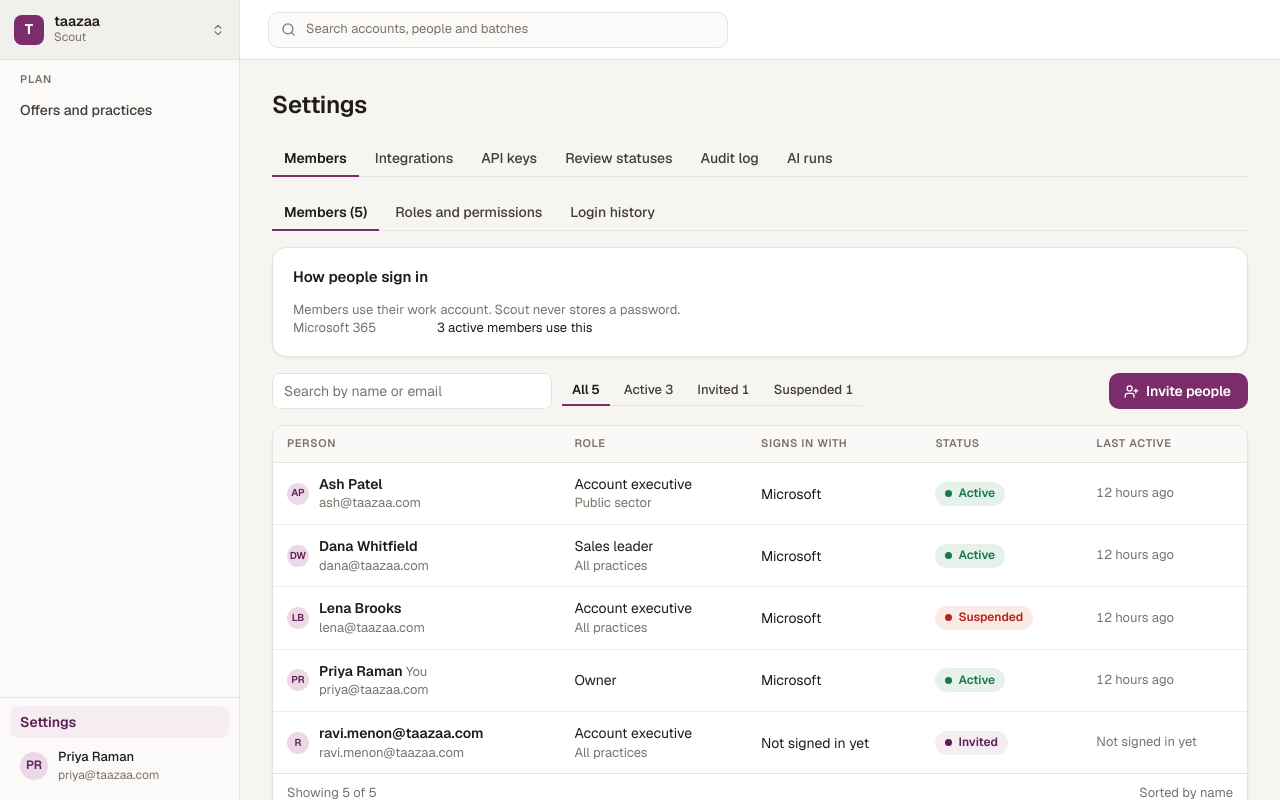
Test: member drawer › changes the role and says when it applies
The image size is (1280, 800).
Click the button "Dana Whitfield": (368,546) x1=319 y1=536 x2=418 y2=557
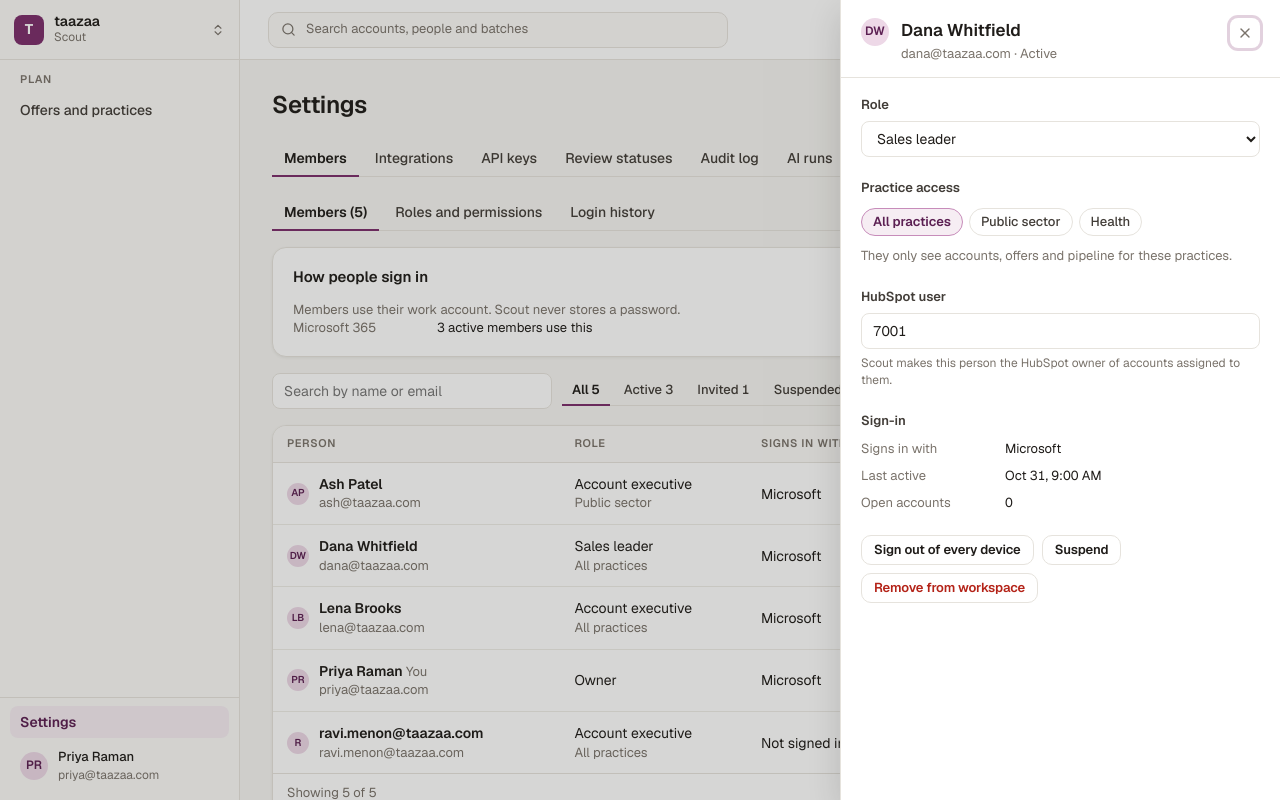
Select "Operator" in the dropdown labelled "Role": (1060,139) x1=861 y1=121 x2=1260 y2=157
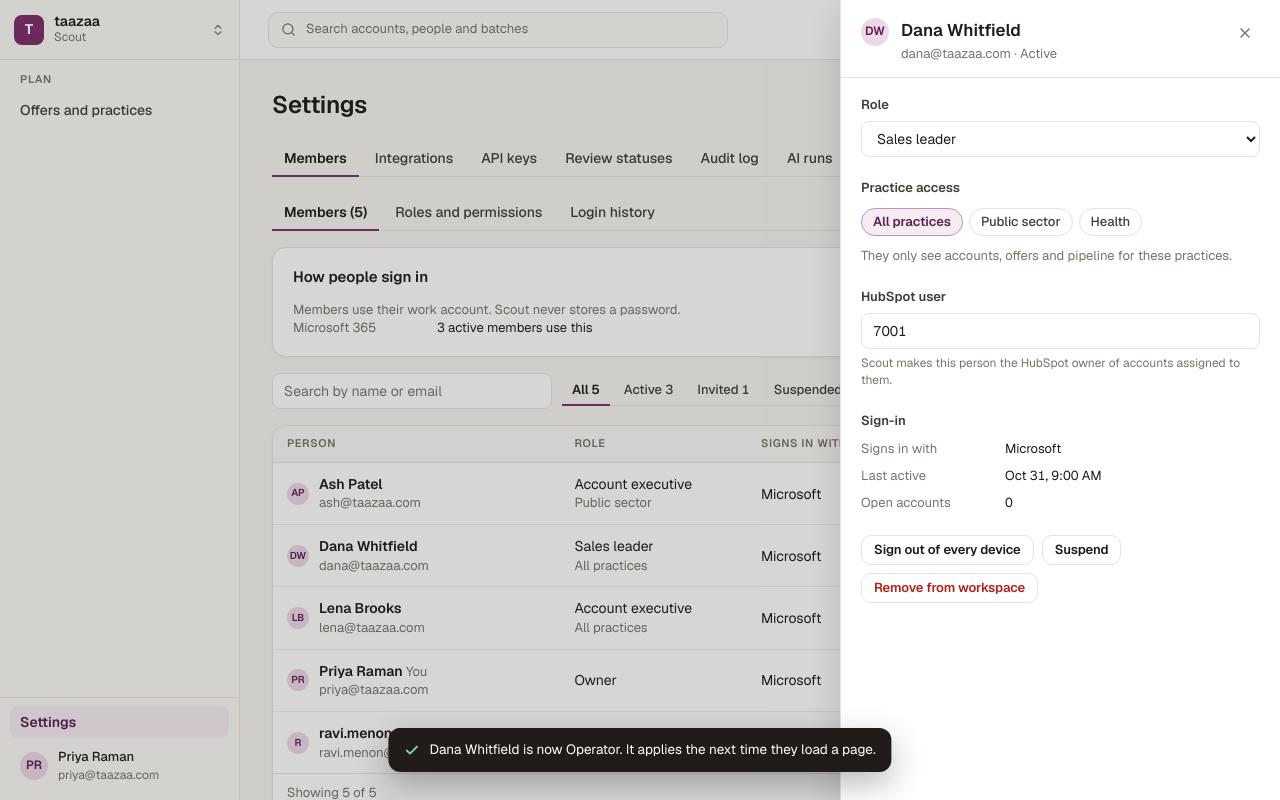
Check: the text "Dana Whitfield is now Operator. It applies the next time they load a page." is shown, box x1=429 y1=740 x2=876 y2=760
